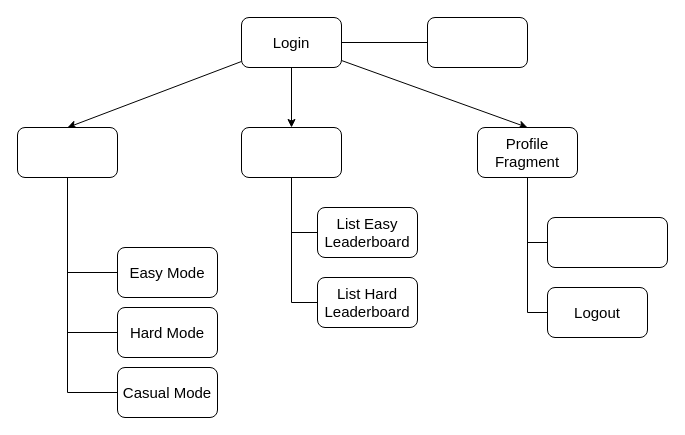
This 685x435 diagram has some shape labels left out. The shapes that lost their labels are listed below. From the top down, each one's box as (x1, y1, x2, y2) in pixels, then its label:
(426, 16, 528, 68): Register
(16, 126, 118, 178): Game Fragment
(240, 126, 342, 178): Leaderboard Fragment
(546, 216, 668, 268): Playing history
